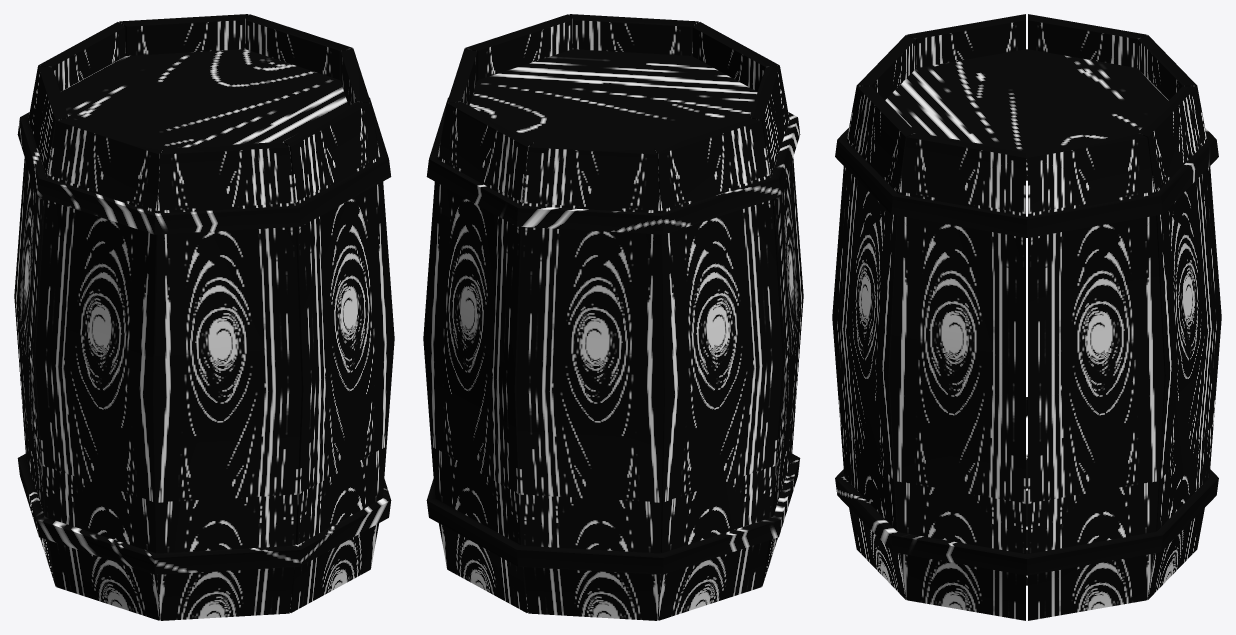
Rendered from Barrel_PV.fbx.
The picture shows the model from 3 angles, left to right: view 1: azimuth 30°, elevation 25°; view 2: azimuth 150°, elevation 25°; view 3: azimuth 270°, elevation 25°; orthographic projection.
Visible parts, largest first — view 1: Barrel_PV; view 2: Barrel_PV; view 3: Barrel_PV.
Part boxes in pixels (x1=…): Barrel_PV: x1=14, y1=14, x2=394, y2=620; Barrel_PV: x1=423, y1=14, x2=803, y2=620; Barrel_PV: x1=832, y1=14, x2=1221, y2=620.
Size of the model in its own units: 45.74 by 60 by 45.74.
